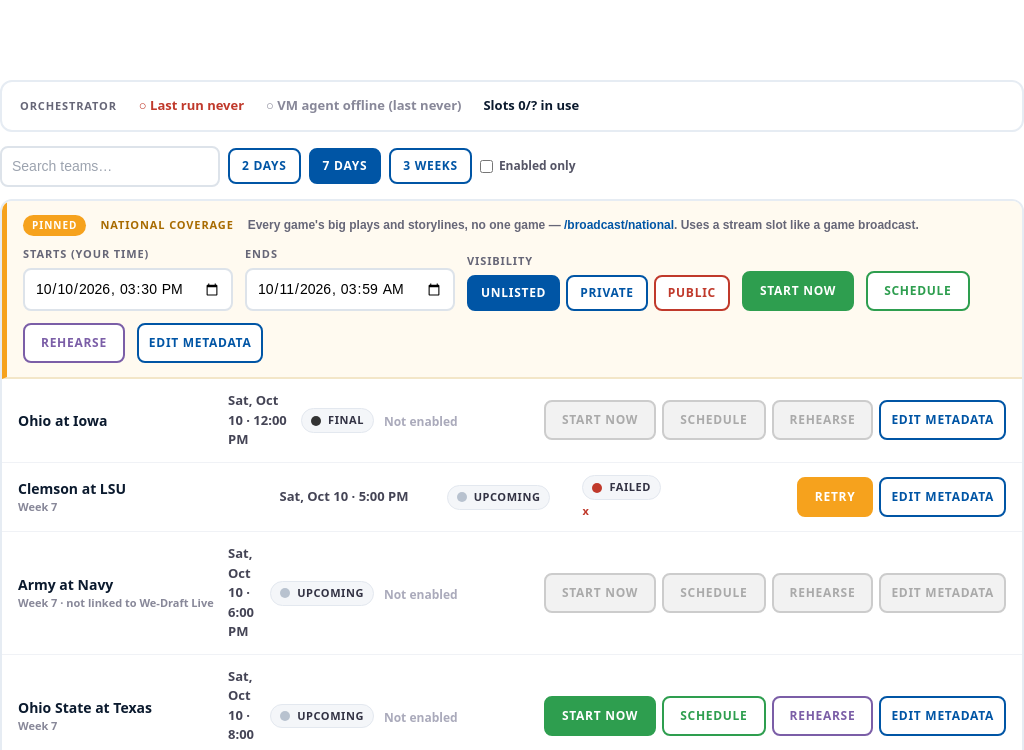
AutoSchedule › Retry re-enables a failed game
Click the button "Retry" at (835, 497), box [797, 477, 873, 517]
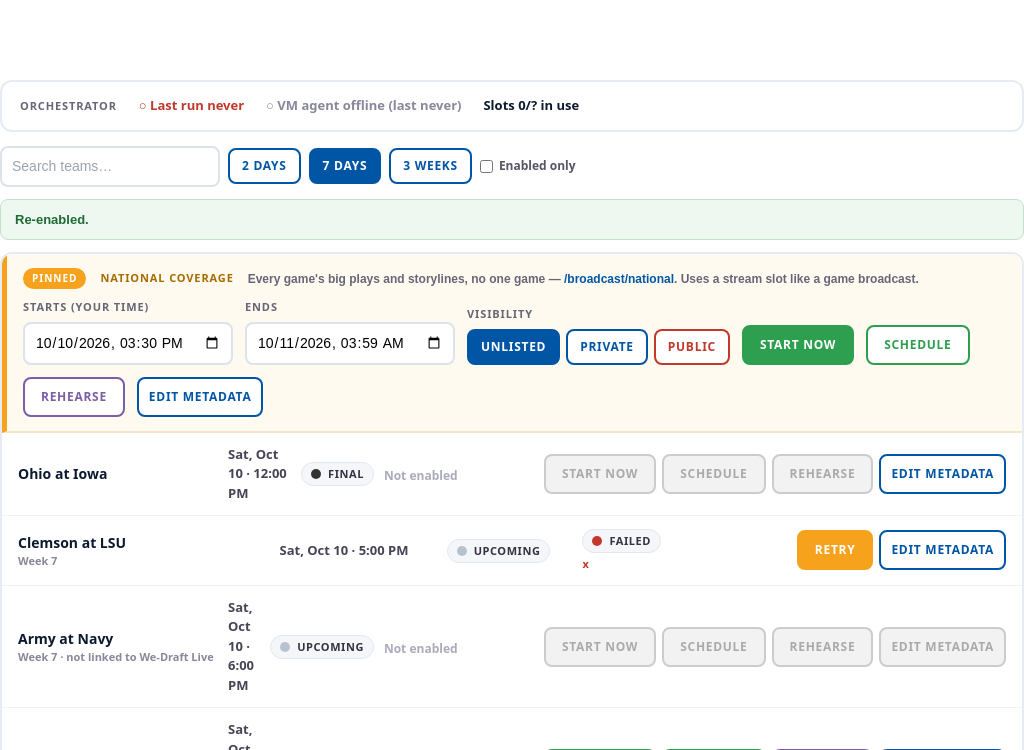
Expected: the text "Re-enabled." is shown, [0, 198, 1023, 240]
